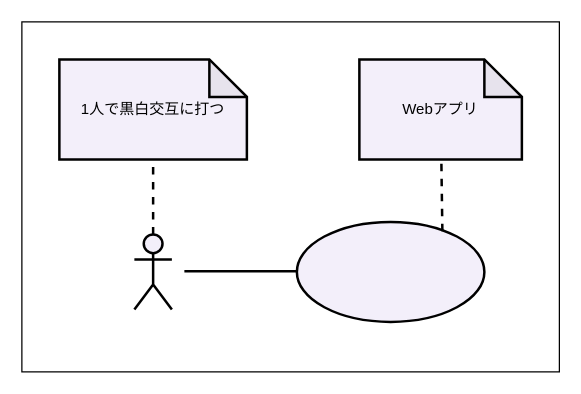
Some shapes in this 581 by 394 pixel diagram are drawn without their labels. The shapes that lost their labels are listed below. From the top down, each one's box as (x1, y1, x2, y2) in pixels, then its label:
(132, 232, 172, 310): プレイヤー
(295, 220, 485, 322): リバーシ アプリケーション
